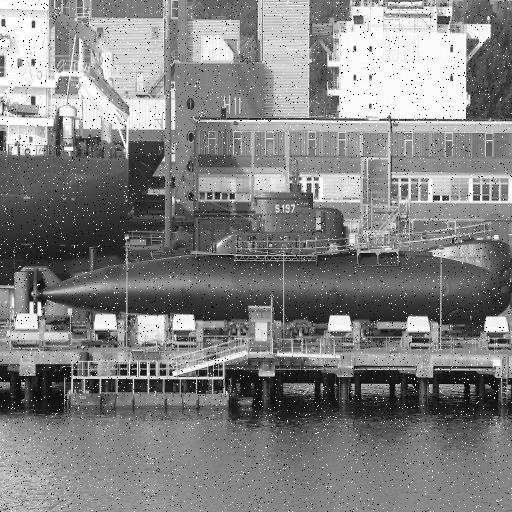submarine: (40, 195, 512, 322)
